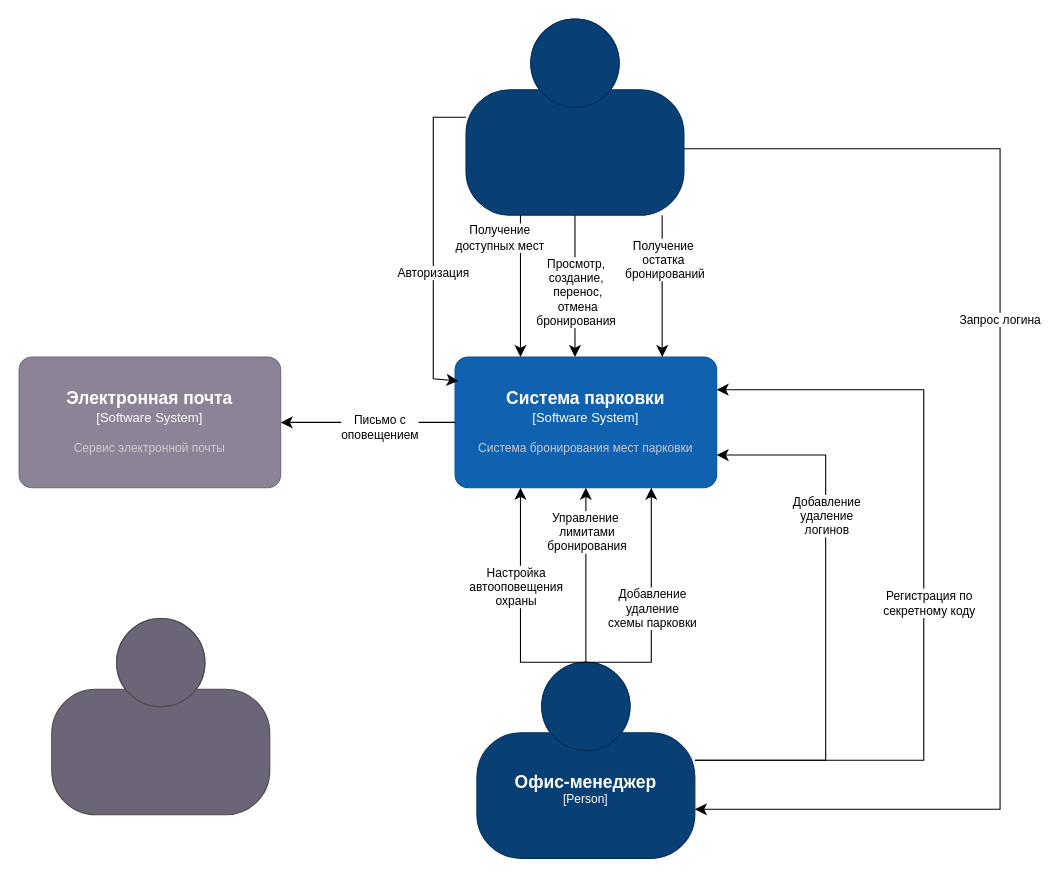
The diagram is 1059 pixels wide and 877 high, and some of its shapes have lost their labels. The box of each missing label's shape, as (x1, y1, x2, y2) in pixels:
Охранник [Person] Сотрудник охраны парковки: (51, 617, 270, 815)
Сотрудник [Person] Сотрудник офиса: (465, 18, 684, 215)
